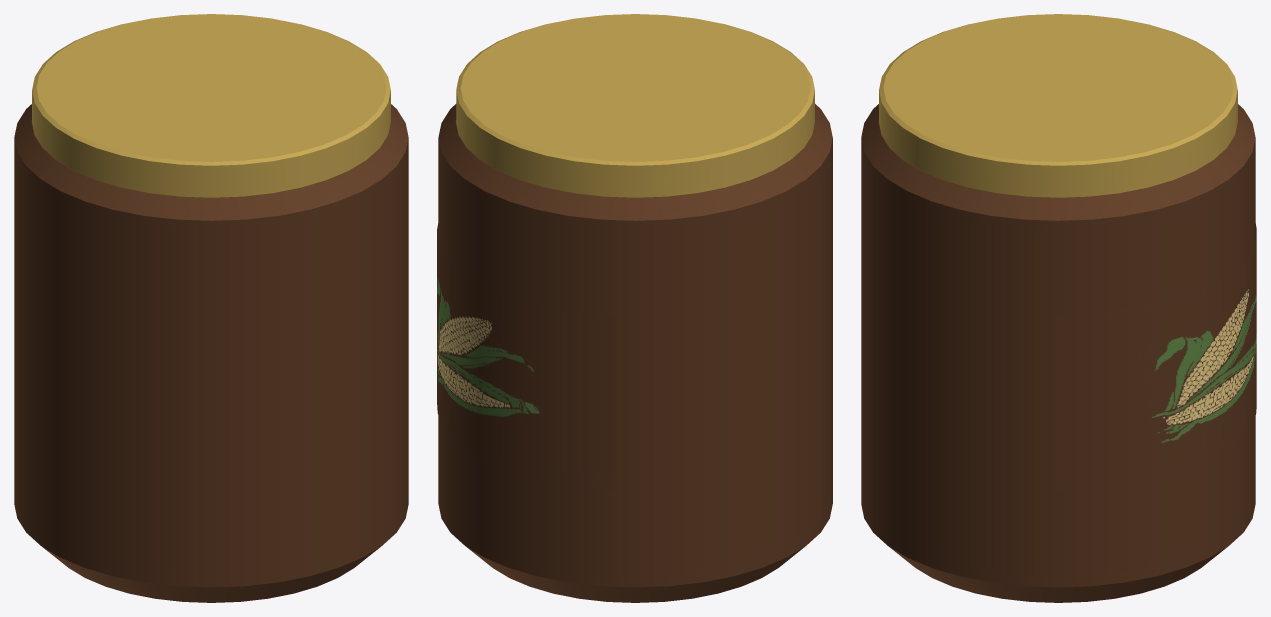
Rendered from corn.obj.
3 renders of one model, left to right at view 1: azimuth 30°, elevation 25°; view 2: azimuth 150°, elevation 25°; view 3: azimuth 270°, elevation 25°, orthographic.
Visible parts, largest first — view 1: Pot, Dop; view 2: Pot, Dop, Plane; view 3: Pot, Dop, Plane.
Part boxes in pixels (left/top/right/bottom): Pot: left=14, top=104, right=408, bottom=602; Dop: left=32, top=14, right=390, bottom=197; Pot: left=438, top=104, right=832, bottom=602; Dop: left=456, top=14, right=814, bottom=197; Plane: left=437, top=223, right=615, bottom=490; Pot: left=861, top=104, right=1255, bottom=602; Dop: left=879, top=14, right=1237, bottom=197; Plane: left=1058, top=224, right=1256, bottom=490.
Size of the model in its own units: 100 by 125 by 100.
